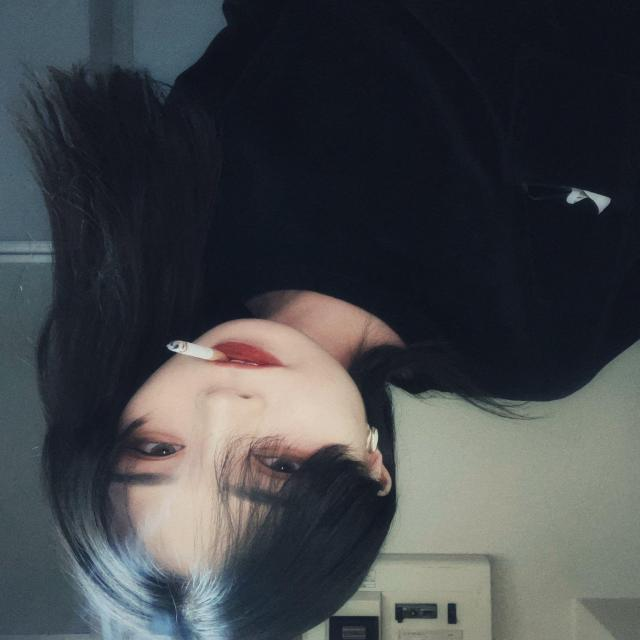cigarette: (152, 328, 253, 373)
